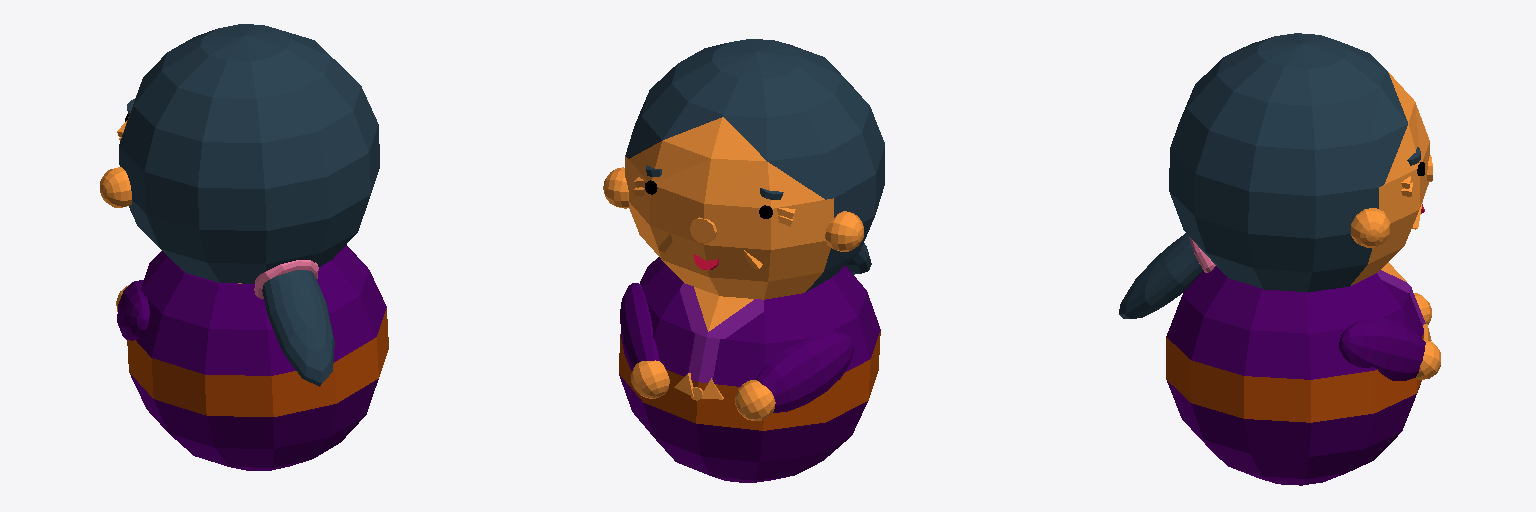
3 views of the same model, side by side, from view 1: azimuth 30°, elevation 25°; view 2: azimuth 150°, elevation 25°; view 3: azimuth 270°, elevation 25° (orthographic).
Parts seen in each view (by area): view 1: group[number redacted], group[number redacted], group[number redacted], group[number redacted], group[number redacted], group[number redacted]; view 2: group[number redacted], group[number redacted], group[number redacted], group[number redacted], group[number redacted], group[number redacted], group[number redacted], group[number redacted], group[number redacted]; view 3: group[number redacted], group[number redacted], group[number redacted], group[number redacted], group[number redacted], group[number redacted].
Boxes of the visible parts, x1=… form: group[number redacted]: x1=119, y1=24, x2=379, y2=283; group[number redacted]: x1=127, y1=245, x2=388, y2=470; group[number redacted]: x1=262, y1=270, x2=334, y2=386; group[number redacted]: x1=117, y1=280, x2=149, y2=340; group[number redacted]: x1=100, y1=167, x2=131, y2=207; group[number redacted]: x1=254, y1=260, x2=318, y2=298; group[number redacted]: x1=625, y1=39, x2=884, y2=299; group[number redacted]: x1=619, y1=257, x2=880, y2=482; group[number redacted]: x1=756, y1=330, x2=853, y2=412; group[number redacted]: x1=620, y1=283, x2=659, y2=370; group[number redacted]: x1=735, y1=380, x2=775, y2=420; group[number redacted]: x1=825, y1=211, x2=863, y2=251; group[number redacted]: x1=631, y1=360, x2=669, y2=398; group[number redacted]: x1=603, y1=167, x2=629, y2=208; group[number redacted]: x1=690, y1=217, x2=716, y2=243; group[number redacted]: x1=1169, y1=33, x2=1429, y2=292; group[number redacted]: x1=1166, y1=262, x2=1425, y2=485; group[number redacted]: x1=1339, y1=318, x2=1425, y2=380; group[number redacted]: x1=1119, y1=233, x2=1203, y2=318; group[number redacted]: x1=1351, y1=208, x2=1389, y2=247; group[number redacted]: x1=1416, y1=339, x2=1440, y2=379.
Size of the model in its own units: 0.2042 by 0.3344 by 0.2306.